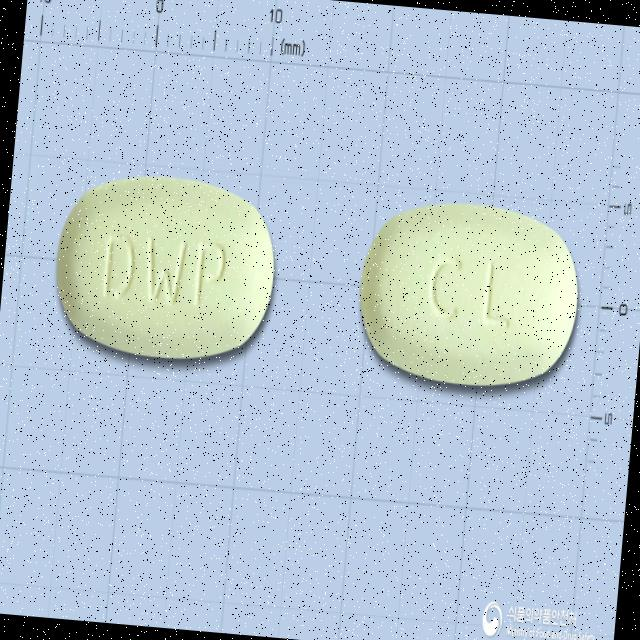Clacin: (45, 162, 287, 376), (348, 192, 588, 398)
